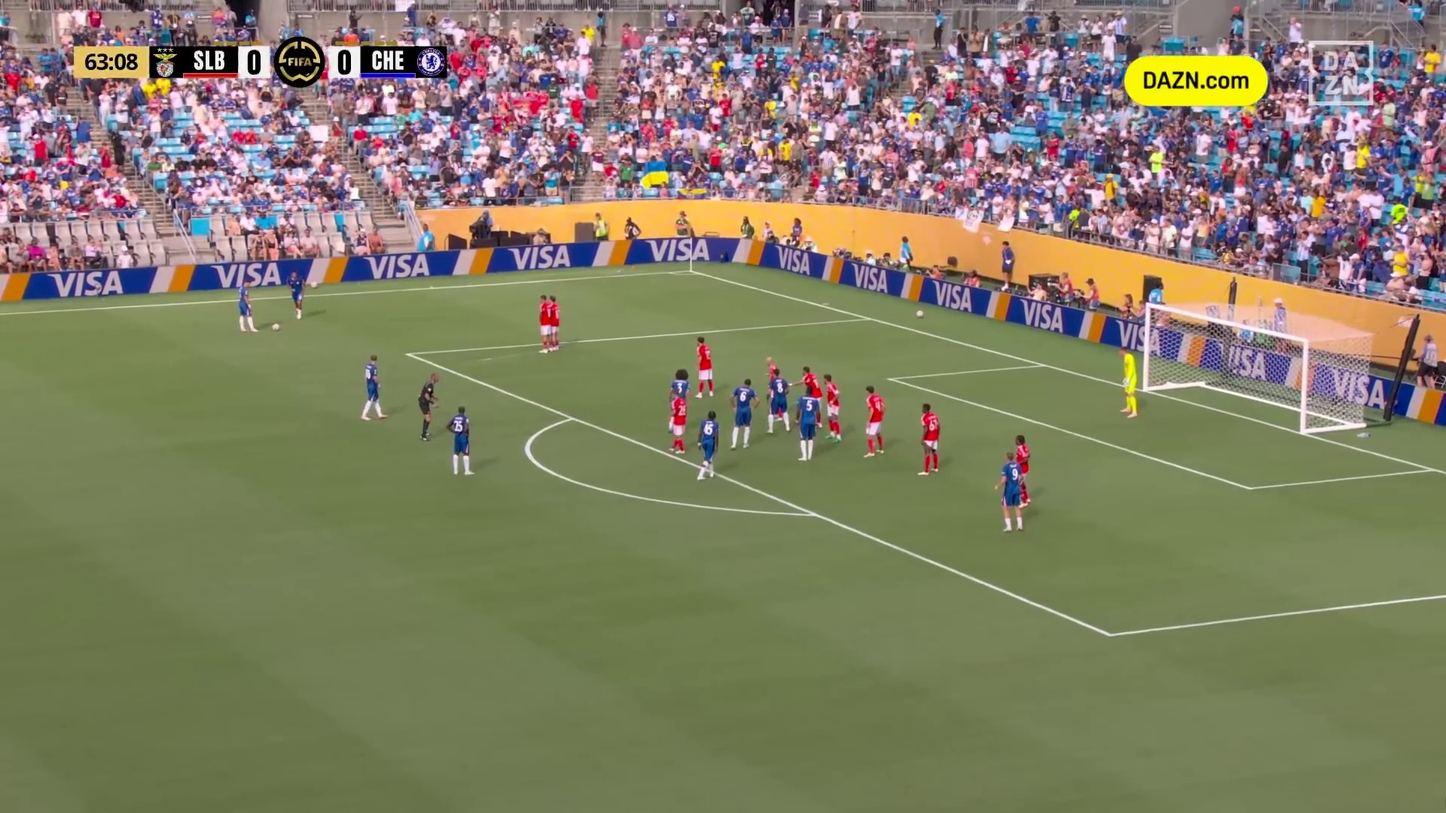ball: (269, 321, 282, 334)
player: (991, 451, 1030, 534), (913, 401, 947, 479), (726, 376, 761, 451), (443, 405, 478, 478), (858, 384, 891, 460), (793, 385, 825, 463), (357, 354, 391, 424), (692, 408, 724, 482), (1114, 345, 1145, 421), (764, 367, 793, 436), (663, 387, 690, 459), (820, 373, 847, 442), (1012, 433, 1037, 504), (692, 335, 718, 401), (233, 276, 262, 335), (667, 368, 695, 422), (287, 270, 311, 321), (763, 354, 787, 405), (797, 365, 820, 417), (537, 292, 551, 356), (548, 295, 563, 352)
referee: (414, 371, 444, 442)
